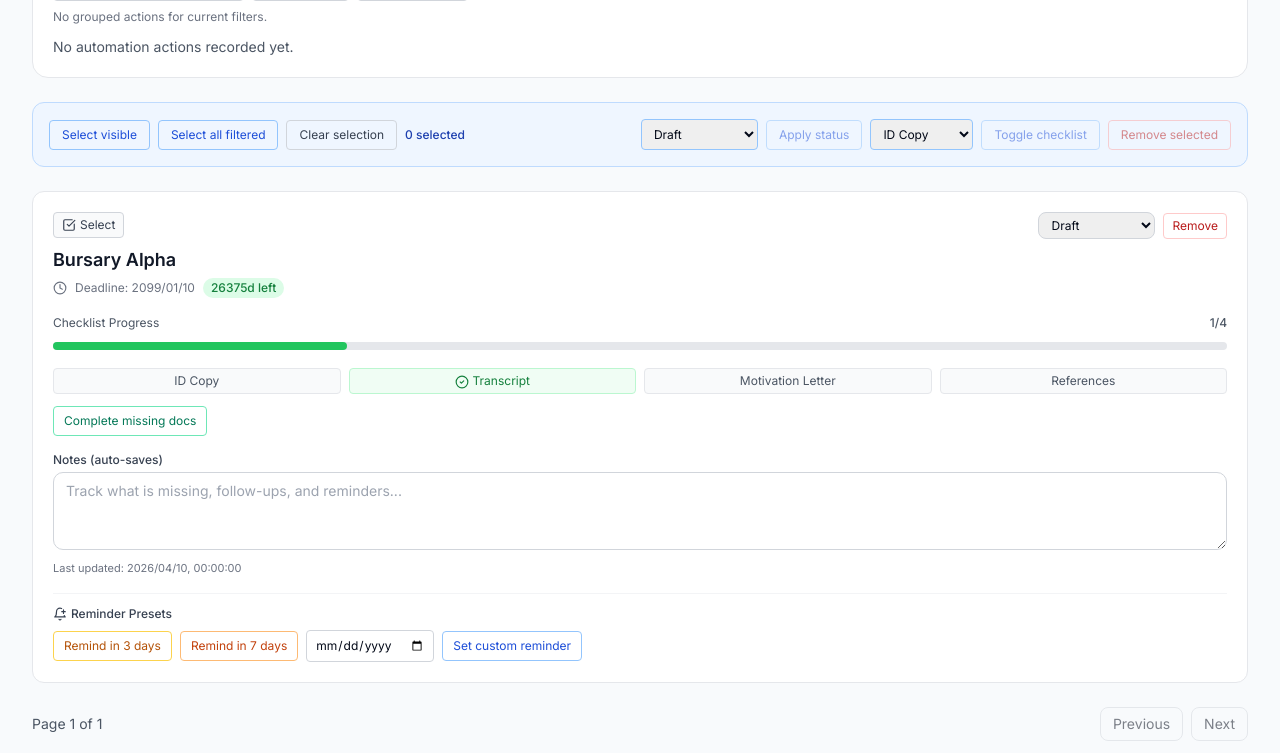
Test: ApplicationTracker phase 2.5 interactions › records automation actions in audit log
The width and height of the screenshot is (1280, 753).
(page scrolled)
Click the button "Complete missing docs": (130, 421) 53,406 -> 208,436
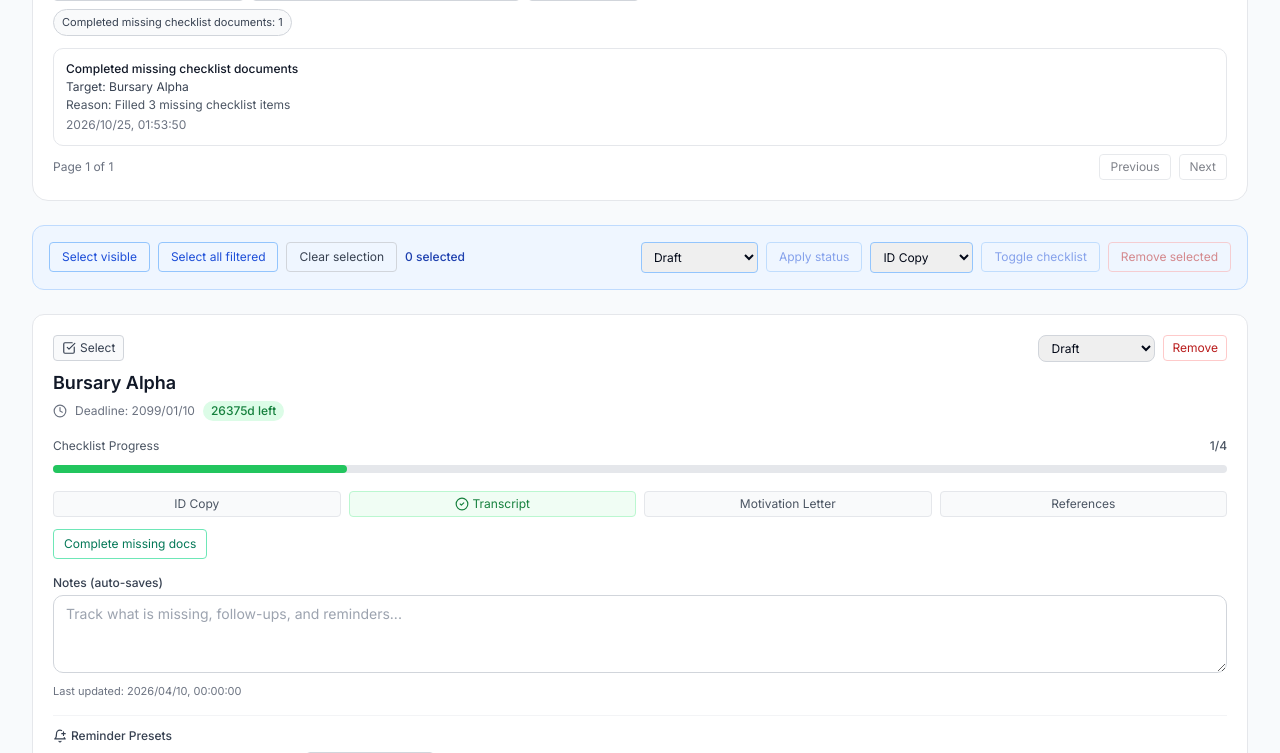
Result: the text "Completed missing checklist documents" is shown at 66,60 -> 298,76
